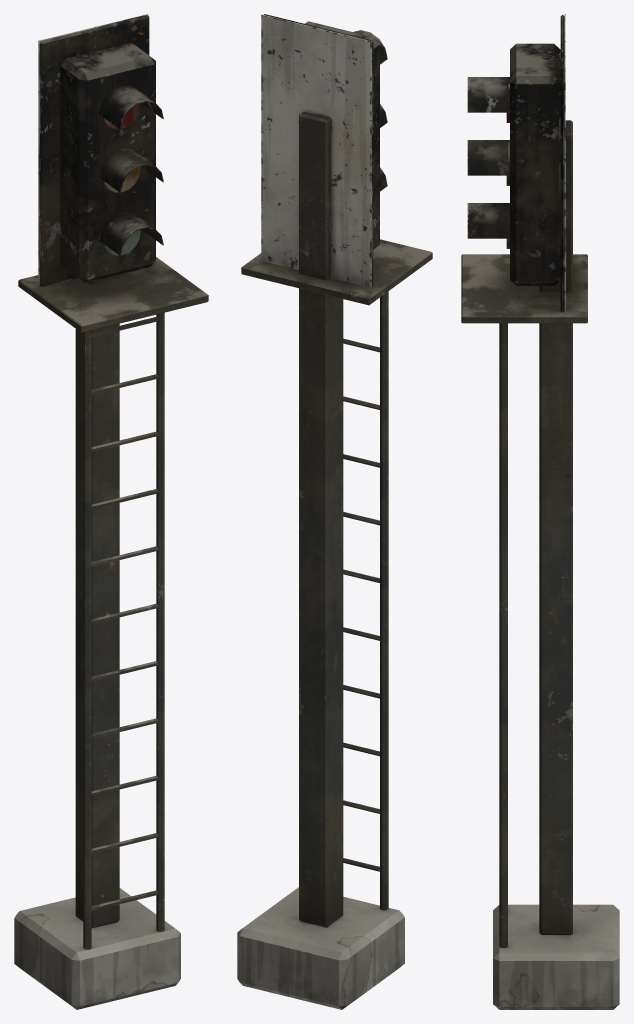
Rendered from RailSignal.fbx.
3 views of the same model, side by side, from view 1: azimuth 30°, elevation 25°; view 2: azimuth 150°, elevation 25°; view 3: azimuth 270°, elevation 25° (orthographic).
Parts seen in each view (by area): view 1: RailSignal; view 2: RailSignal; view 3: RailSignal.
Boxes of the visible parts, x1,y1,x2,y2 form: RailSignal: [14, 14, 208, 1009]; RailSignal: [237, 14, 432, 1009]; RailSignal: [461, 14, 619, 1009].
Bounding box in the file's own units: 2.1 × 14.85 × 2.25.
Materials: 1 (1 with a texture image).
